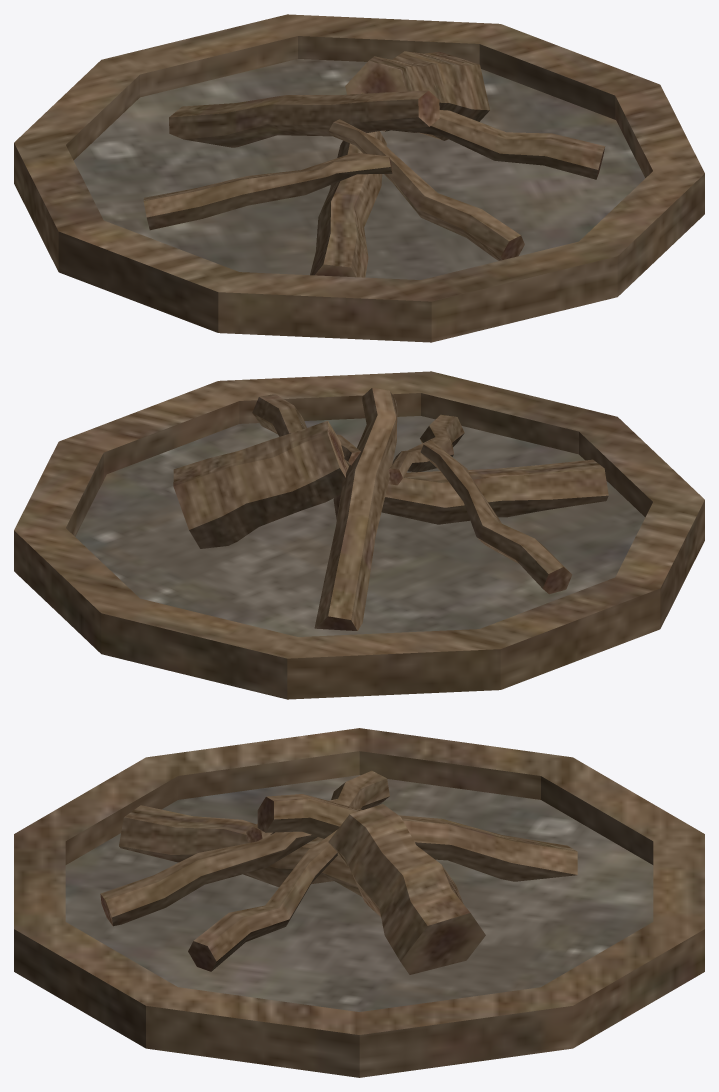
File: vatra.glb
3 views of the same model, one above another, from view 1: azimuth 30°, elevation 25°; view 2: azimuth 150°, elevation 25°; view 3: azimuth 270°, elevation 25° (orthographic). The views are drawn at different scales.
Parts seen in each view (by area): view 1: Campfire_1_aiStandardSurface6_0; view 2: Campfire_1_aiStandardSurface6_0; view 3: Campfire_1_aiStandardSurface6_0.
Part boxes in pixels (x1,y1,x2,y2): Campfire_1_aiStandardSurface6_0: [14, 14, 704, 342]; Campfire_1_aiStandardSurface6_0: [14, 371, 704, 699]; Campfire_1_aiStandardSurface6_0: [14, 728, 704, 1077].
Size of the model in its own units: 69.39 by 14.83 by 65.99.
1 material, 1 textured.
